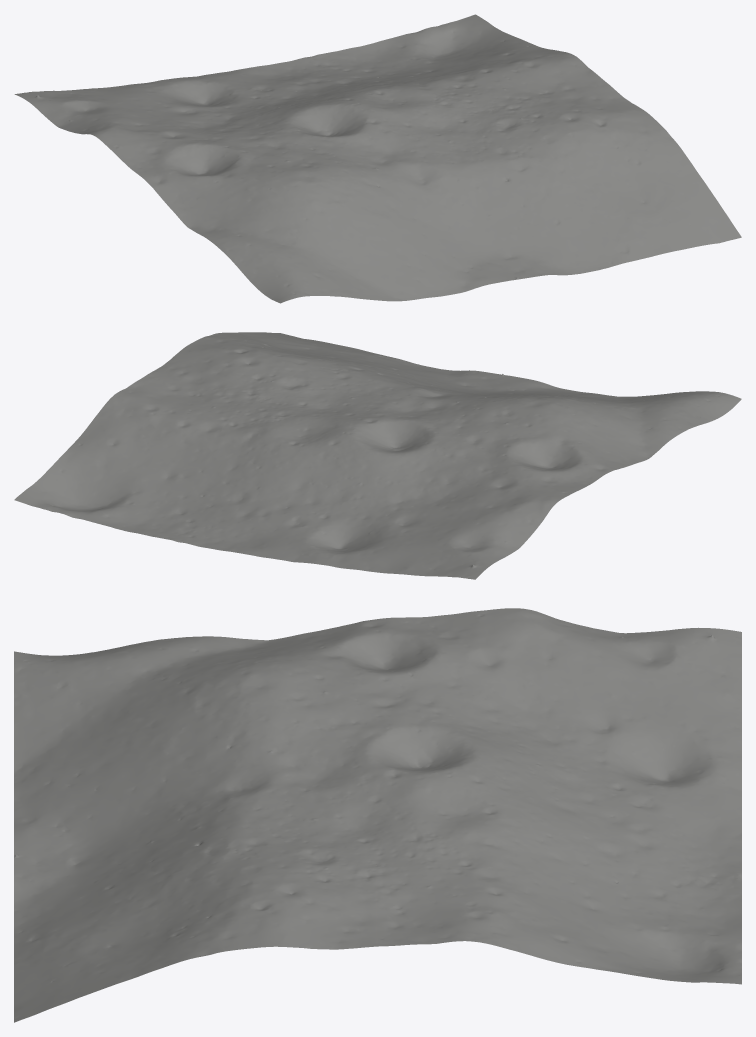
Rendered from amundsen-rim.glb.
The picture shows the model from 3 angles, top to bottom: view 1: azimuth 30°, elevation 25°; view 2: azimuth 150°, elevation 25°; view 3: azimuth 270°, elevation 25°; orthographic projection. The views are drawn at different scales.
Parts seen in each view (by area): view 1: Amundsen Rim terrain; view 2: Amundsen Rim terrain; view 3: Amundsen Rim terrain.
Boxes of the visible parts, left/top/right/bottom form: Amundsen Rim terrain: left=14, top=14, right=741, bottom=303; Amundsen Rim terrain: left=14, top=332, right=741, bottom=579; Amundsen Rim terrain: left=14, top=608, right=741, bottom=1022.
Bounding box in the file's own units: 9995 × 1666 × 9995.
Materials: 1 (1 with a texture image).
